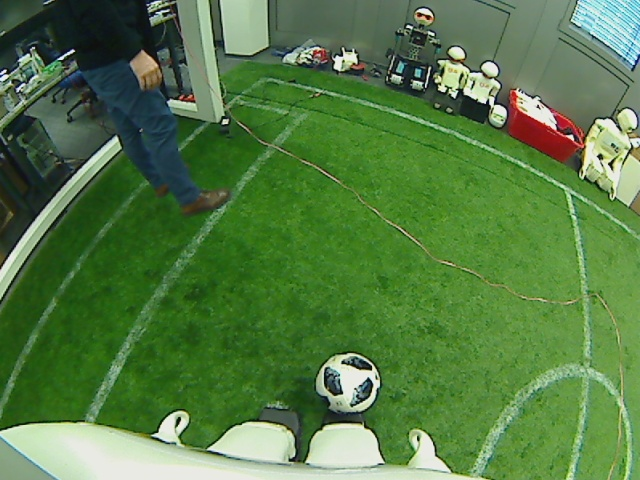ball: (313, 350, 382, 415)
